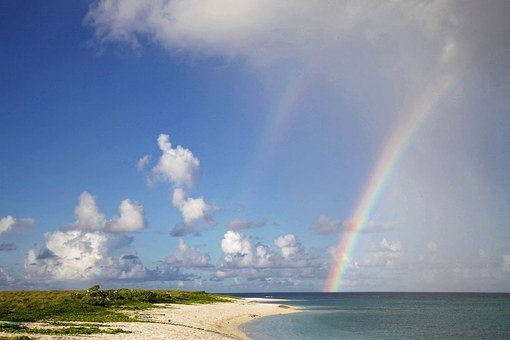sea: (8, 281, 510, 339)
sky: (6, 5, 507, 290)
